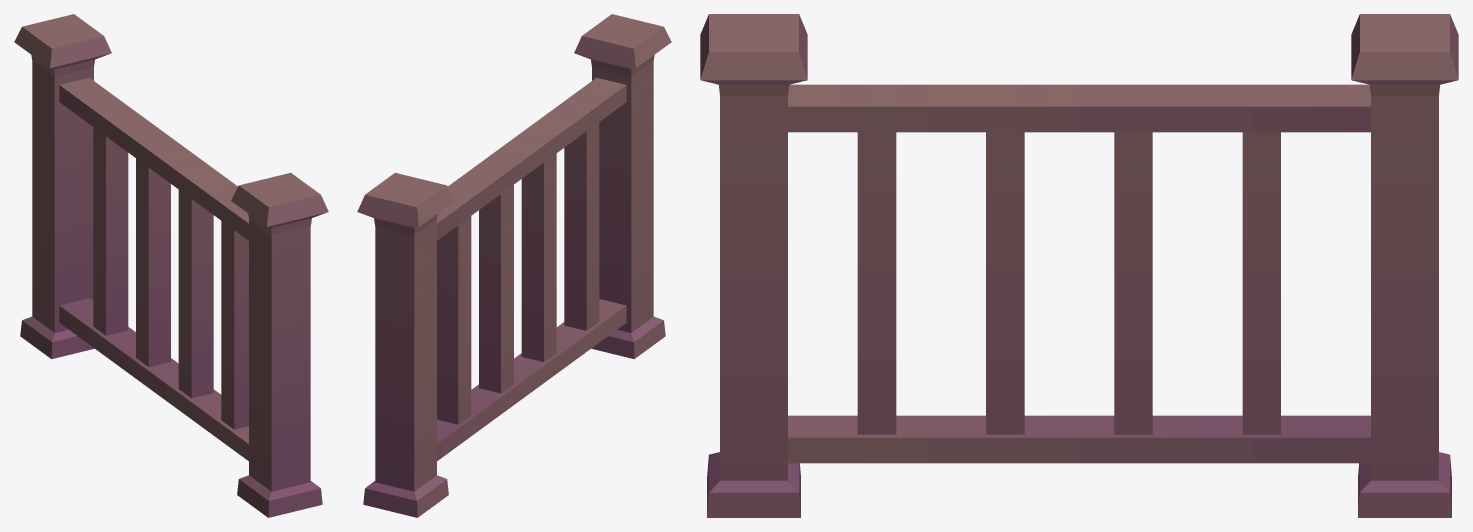
File: fence_normal.gltf
3 views of the same model, side by side, from view 1: azimuth 30°, elevation 25°; view 2: azimuth 150°, elevation 25°; view 3: azimuth 270°, elevation 25° (orthographic). The views are drawn at different scales.
Parts seen in each view (by area): view 1: Object_40; view 2: Object_40; view 3: Object_40.
Part boxes in pixels (x1,y1,x2,y2): Object_40: (14,14,328,517); Object_40: (357,14,671,517); Object_40: (700,14,1458,517).
Bounding box in the file's own units: 0.6277 × 3 × 4.43.
1 material, 1 textured.
